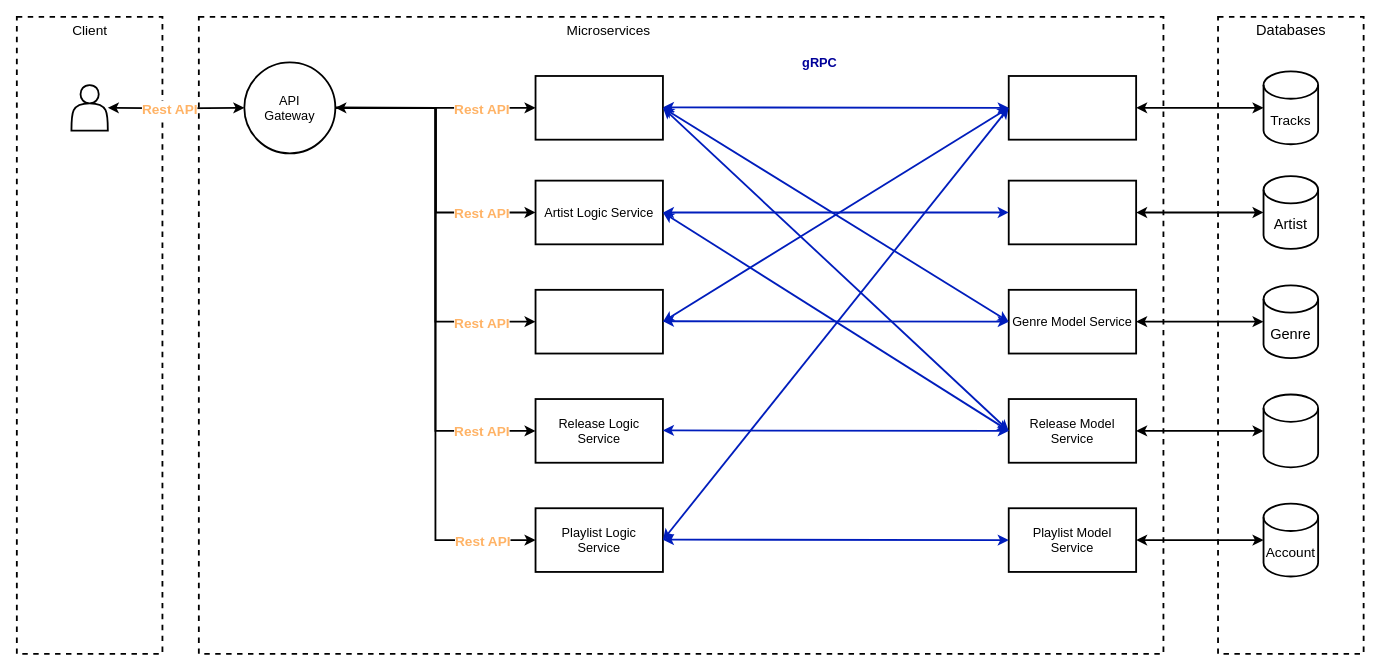
Image size: 1380x670. Some labels were removed from this diagram. The shapes that lost their labels are listed below. From the top down, each one's centre as x and y in pixels, then its label:
At (598,107): "Track Logic Service".
At (1072,107): "Track Model Service".
At (1072,212): "Artist Model Service".
At (598,321): "Genre Logic Service".
At (1290,430): "Release".
